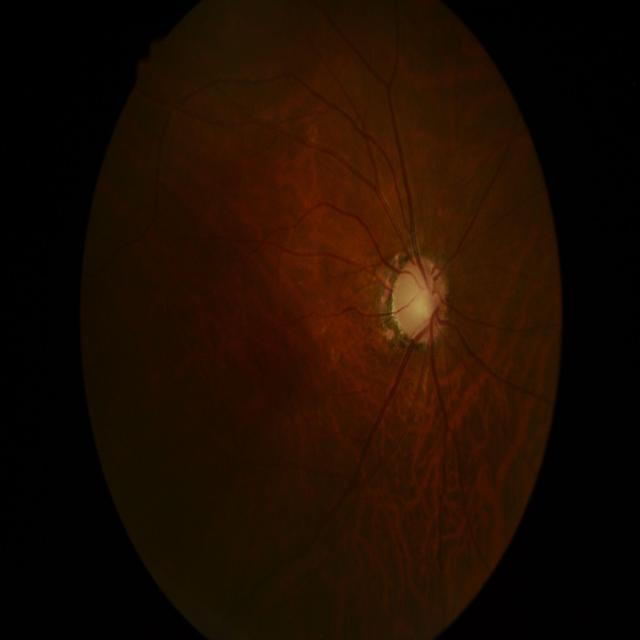cup: (406, 268, 444, 328)
disk: (392, 255, 449, 344)
